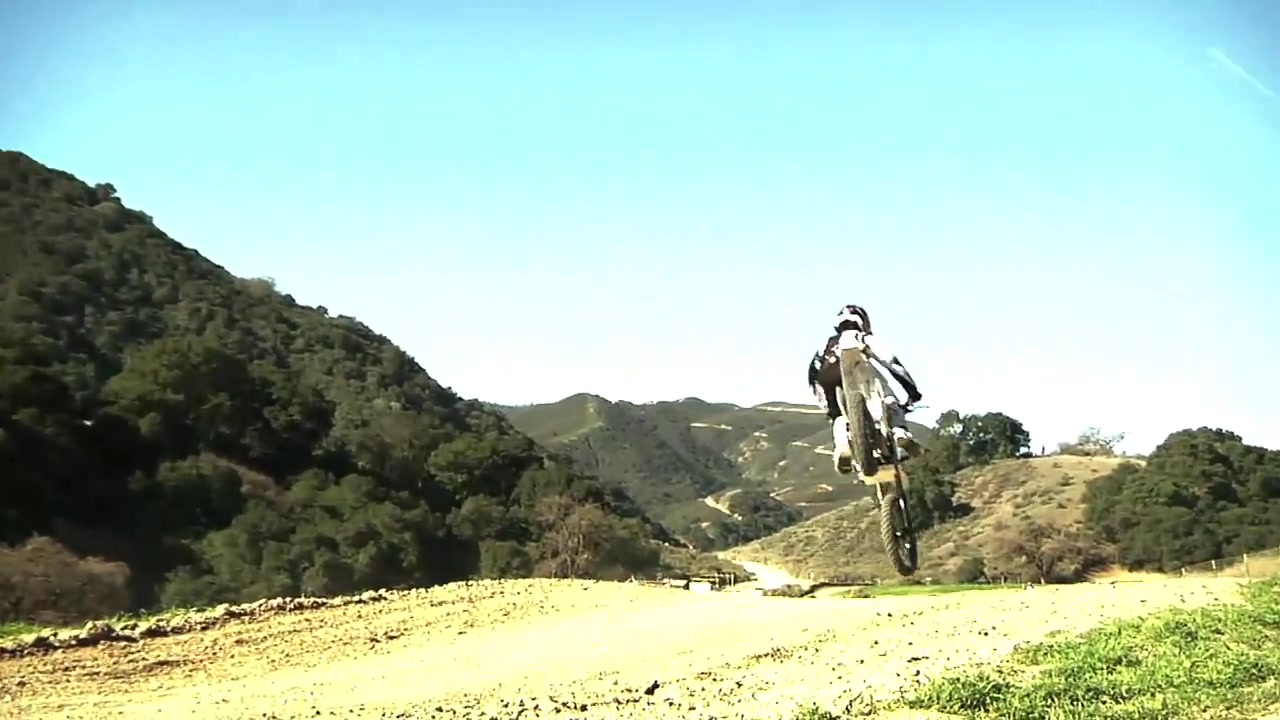motorbike: (831, 337, 925, 578)
